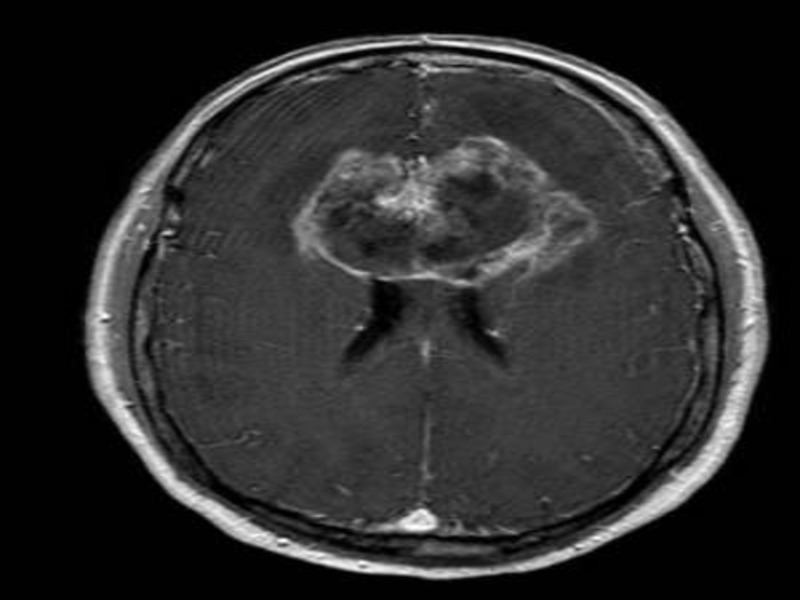tumor: (400, 499, 452, 552)
